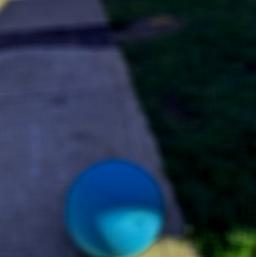algae: (63, 155, 167, 257)
